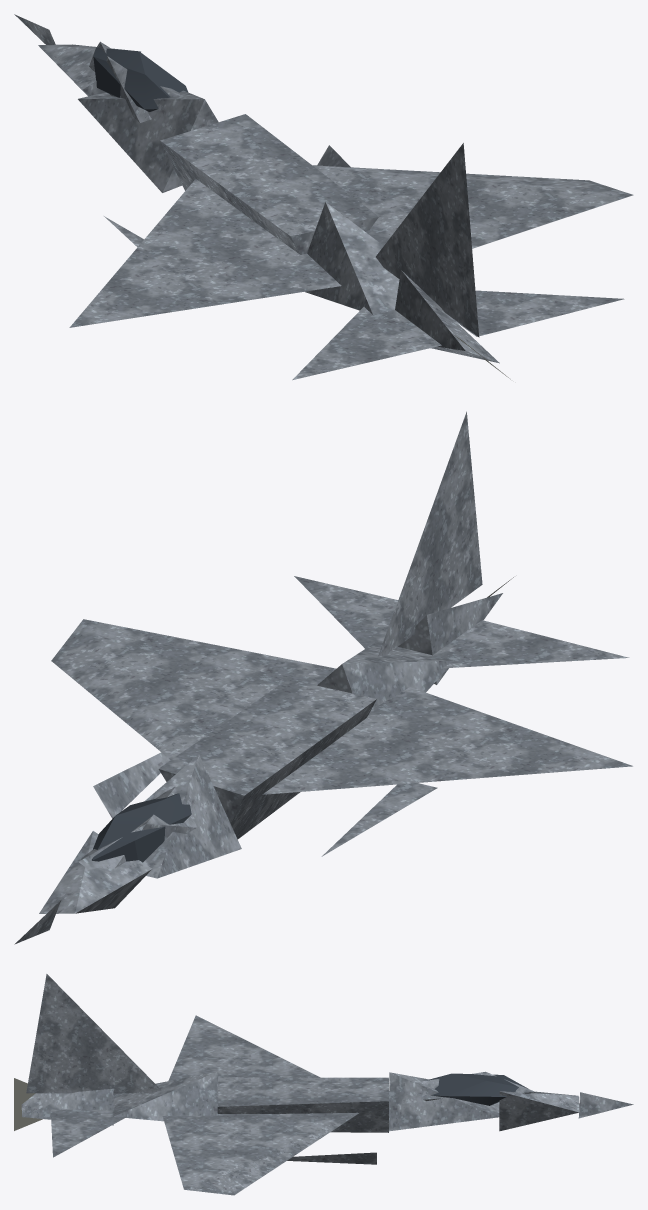
Rendered from air_e4_us_multirole_LOD2.glb.
3 views of the same model, one above another, from view 1: azimuth 30°, elevation 25°; view 2: azimuth 150°, elevation 25°; view 3: azimuth 270°, elevation 25° (orthographic). The views are drawn at different scales.
Parts seen in each view (by area): view 1: air_e4_us_multirole_LOD2_body, air_e4_us_multirole_LOD2_glass; view 2: air_e4_us_multirole_LOD2_body, air_e4_us_multirole_LOD2_glass; view 3: air_e4_us_multirole_LOD2_body, air_e4_us_multirole_LOD2_glass, air_e4_us_multirole_LOD2_gun.
Boxes of the visible parts, x1=… form: air_e4_us_multirole_LOD2_body: x1=14, y1=14, x2=633, y2=380; air_e4_us_multirole_LOD2_glass: x1=93, y1=47, x2=187, y2=111; air_e4_us_multirole_LOD2_body: x1=14, y1=411, x2=632, y2=944; air_e4_us_multirole_LOD2_glass: x1=92, y1=793, x2=191, y2=862; air_e4_us_multirole_LOD2_body: x1=21, y1=974, x2=633, y2=1195; air_e4_us_multirole_LOD2_glass: x1=426, y1=1073, x2=528, y2=1105; air_e4_us_multirole_LOD2_gun: x1=14, y1=1078, x2=42, y2=1130.
Bounding box in the file's own units: 10.28 × 4.4 × 15.21.
Materials: 3 (1 with a texture image).
